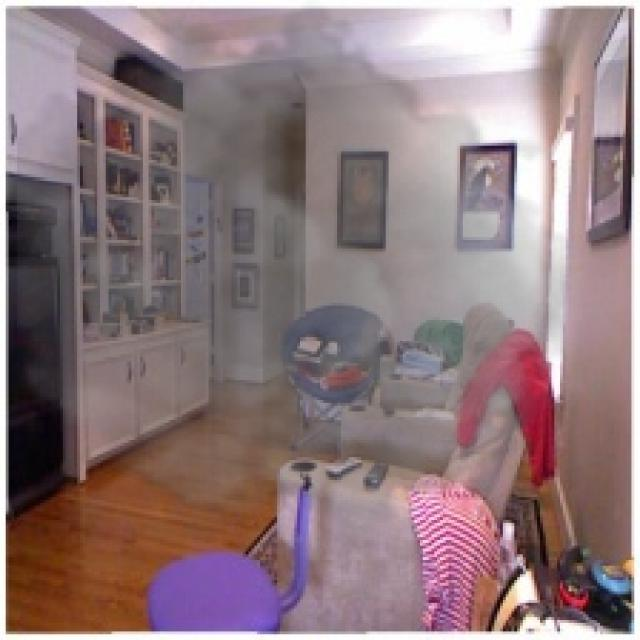smoke: (17, 0, 566, 555)
